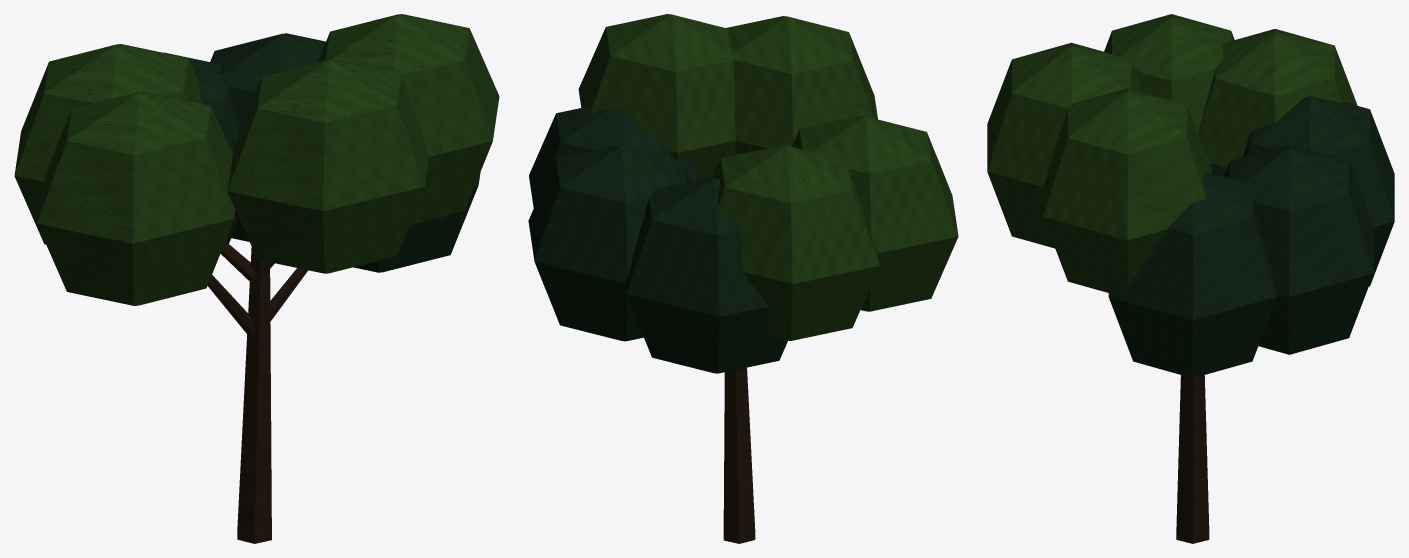
File: PROP-4565F369DE85_lod2.glb
3 views of the same model, side by side, from view 1: azimuth 30°, elevation 25°; view 2: azimuth 150°, elevation 25°; view 3: azimuth 270°, elevation 25° (orthographic). The views are drawn at different scales.
Parts seen in each view (by area): view 1: leaf_crown.070, leaf_crown.069, trunk.062, branch.039; view 2: leaf_crown.070, leaf_crown.069, trunk.062; view 3: leaf_crown.070, leaf_crown.069, trunk.062.
Boxes of the visible parts, x1=… form: leaf_crown.070: x1=14, y1=14, x2=499, y2=305; leaf_crown.069: x1=163, y1=33, x2=480, y2=272; trunk.062: x1=237, y1=247, x2=271, y2=543; branch.039: x1=207, y1=210, x2=307, y2=335; leaf_crown.070: x1=578, y1=14, x2=958, y2=340; leaf_crown.069: x1=528, y1=107, x2=787, y2=373; trunk.062: x1=723, y1=367, x2=755, y2=543; leaf_crown.070: x1=987, y1=14, x2=1357, y2=292; leaf_crown.069: x1=1108, y1=96, x2=1394, y2=378; trunk.062: x1=1176, y1=375, x2=1209, y2=543.
Size of the model in its own units: 6.36 by 6.88 by 5.14.
Materials: 3 (3 with a texture image).
